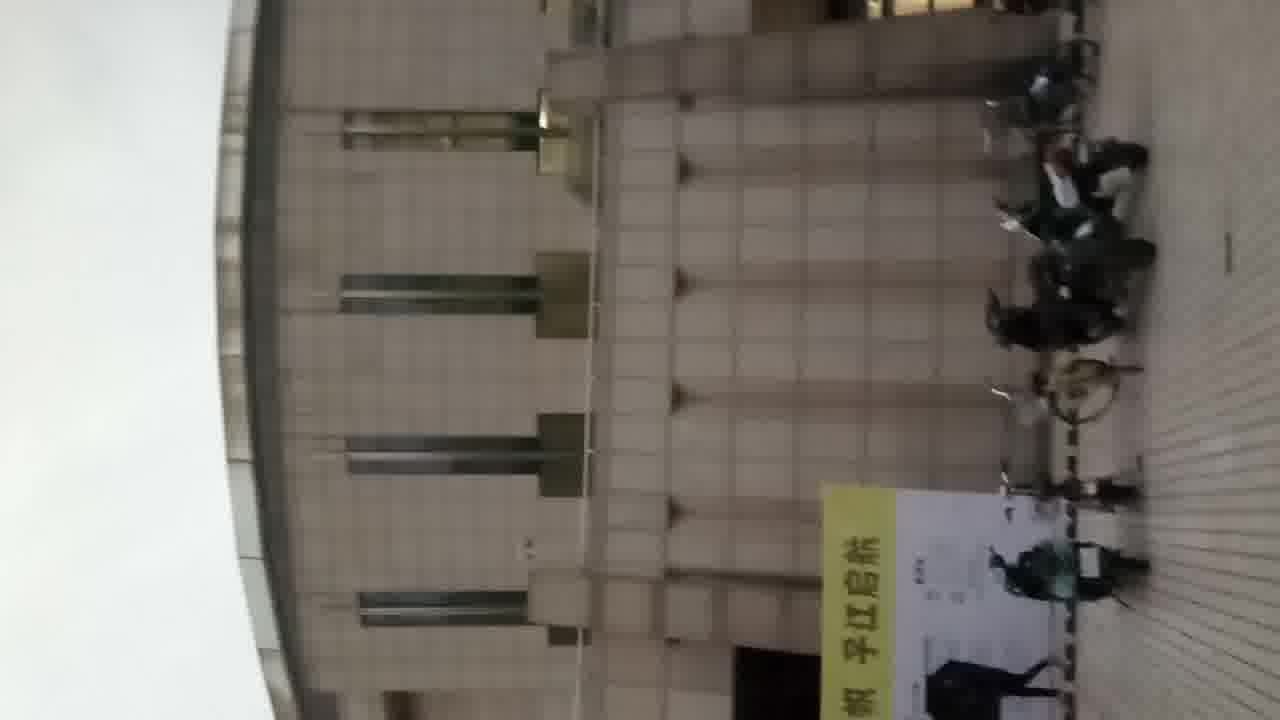zhongtiww: (203, 4, 1072, 712)
